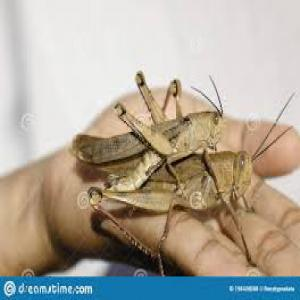locust: (108, 130, 290, 244), (74, 68, 237, 166)
